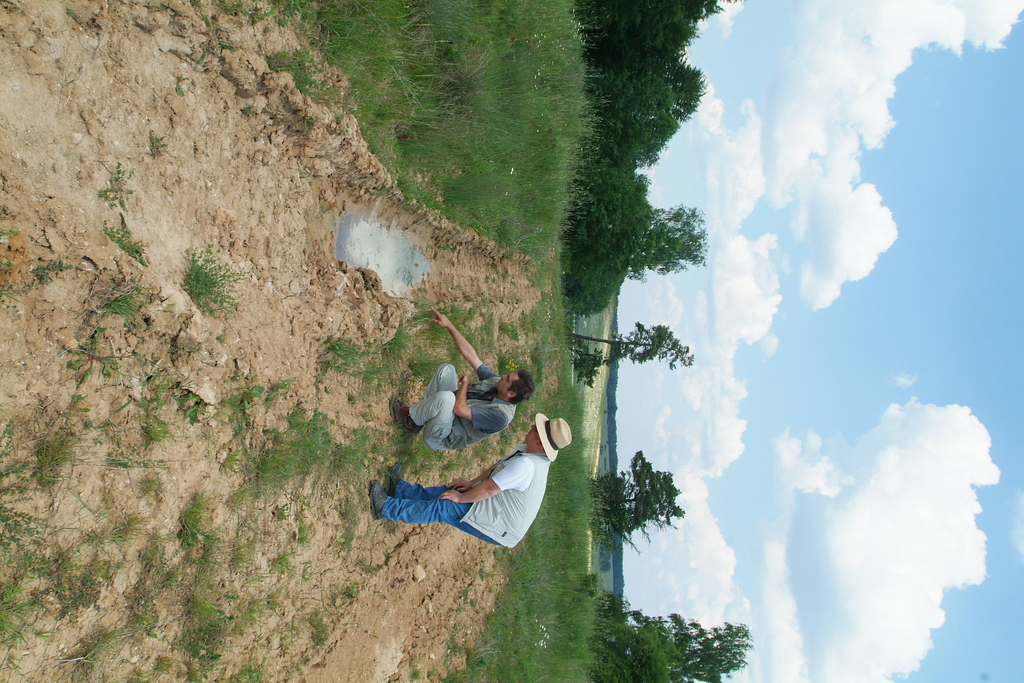Tree: (559, 0, 754, 683)
